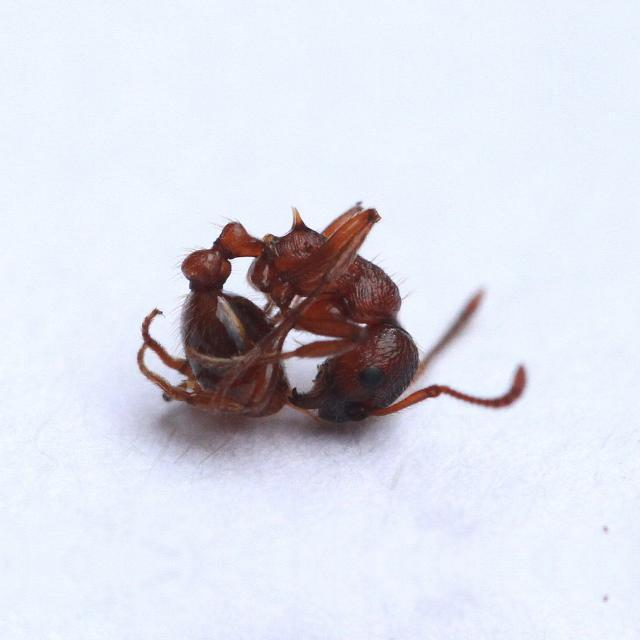Myrmica: (138, 189, 484, 481)
